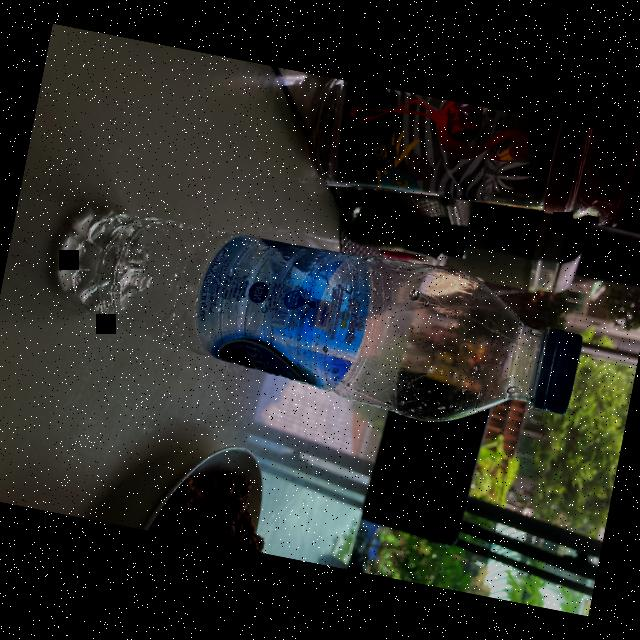plastic_bottle: (51, 193, 598, 454)
